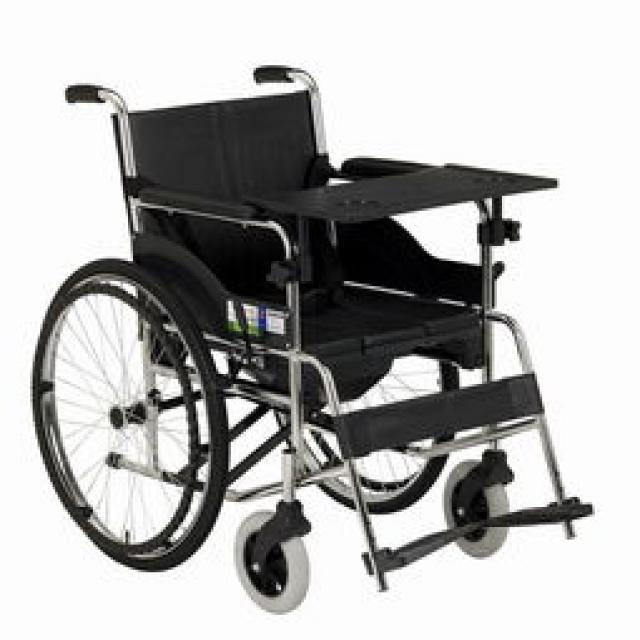wheelchair: (25, 58, 625, 615)
